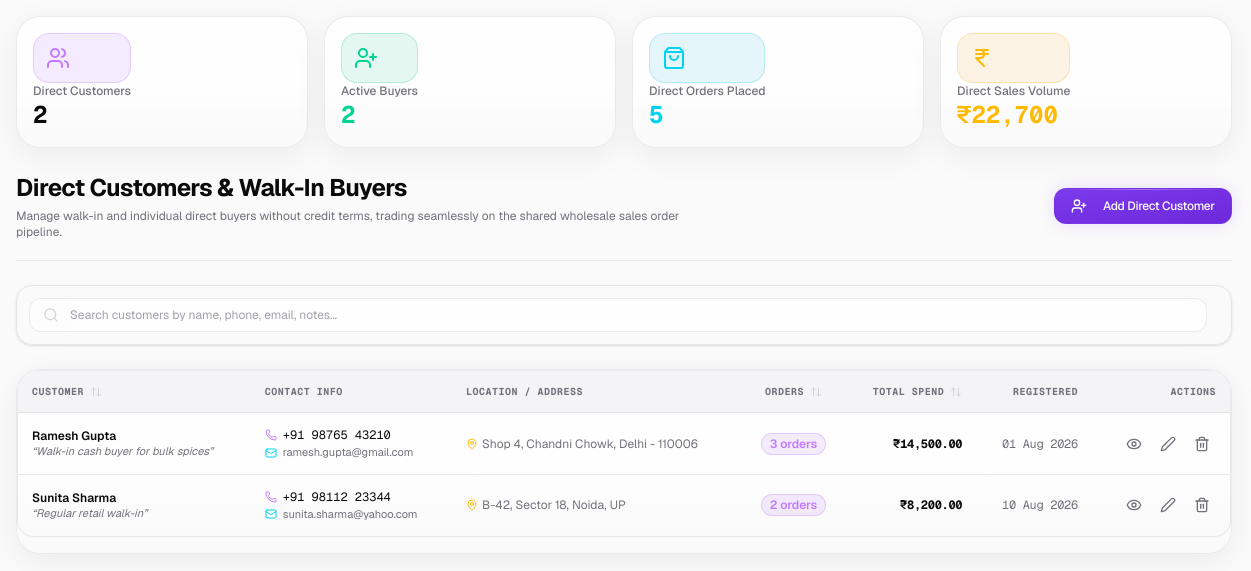
it: Customers Admin Page › filters customer records by search query
The image size is (1251, 571).
Type "Sunita" into the field with placeholder "Search customers by name, phone, email, notes..." at (618,315), box [29,298,1207,332]
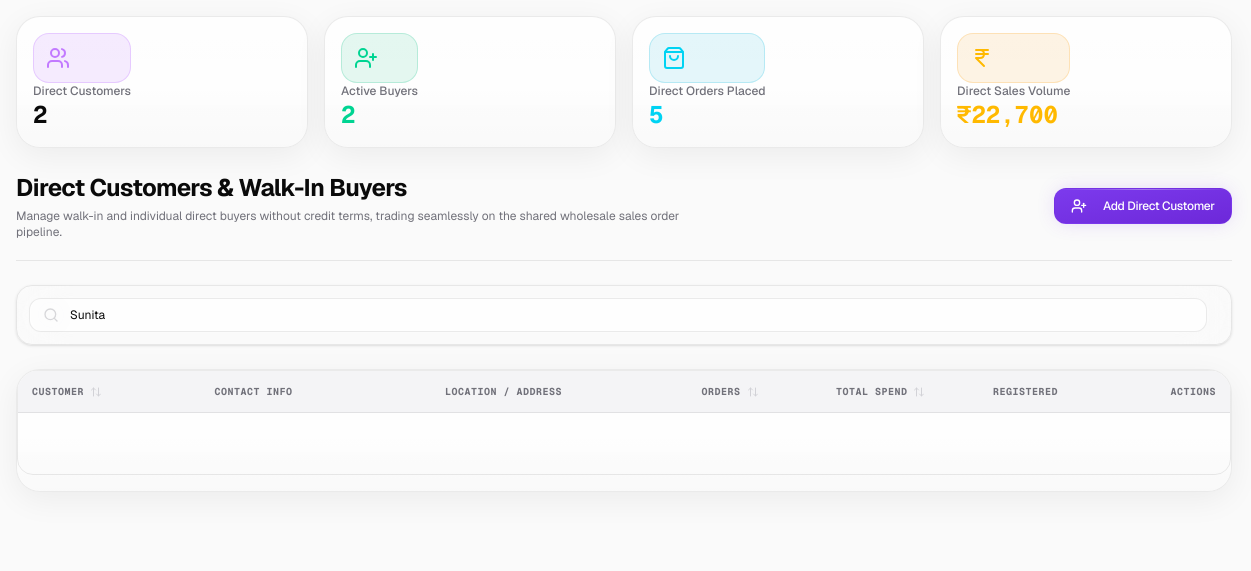
Result: the text "Ramesh Gupta" is gone
